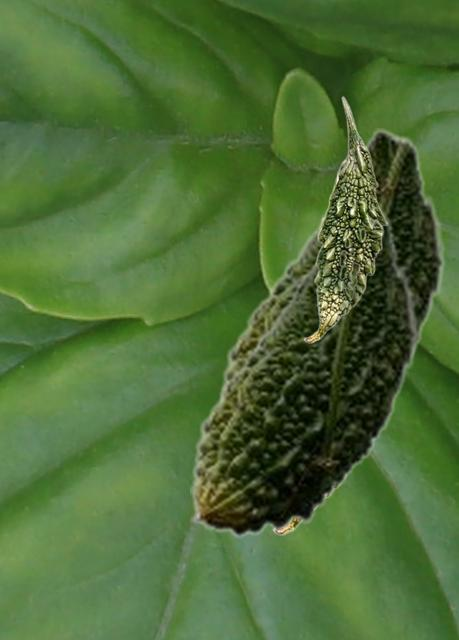ampalaya: (190, 203, 418, 537), (217, 128, 445, 392), (303, 95, 387, 342), (273, 486, 339, 534)
